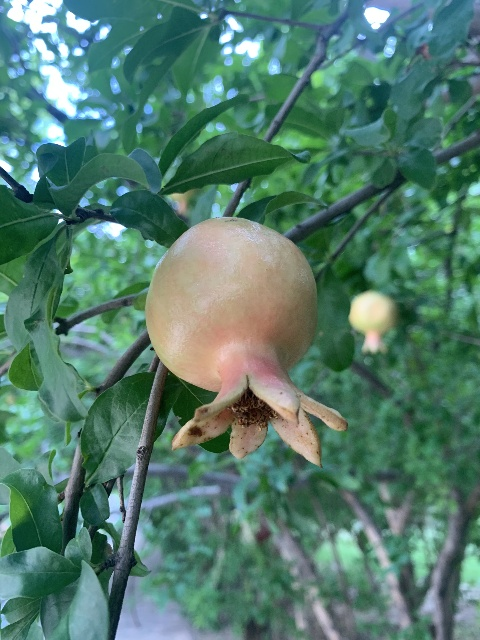mid-growth: (146, 216, 348, 470), (348, 290, 399, 356)
